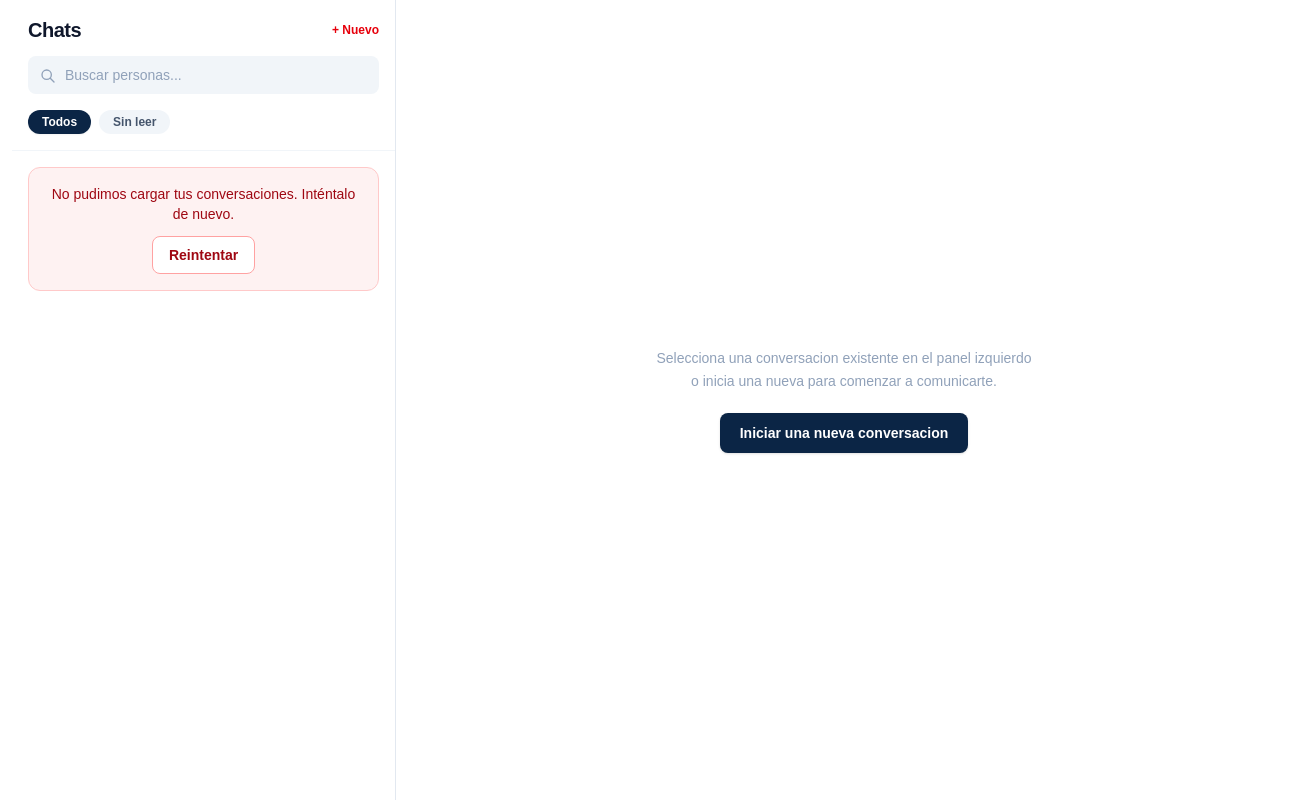
Scenario: Estados del chat › muestra carga, error y permite recuperar la lista sin mostrar un falso vacío
Expected: the message shows "No pudimos cargar tus conversaciones", top-left (52, 186), bottom-right (355, 222)
Click the button "Reintentar" at (204, 255), box top-left (152, 236), bottom-right (255, 274)
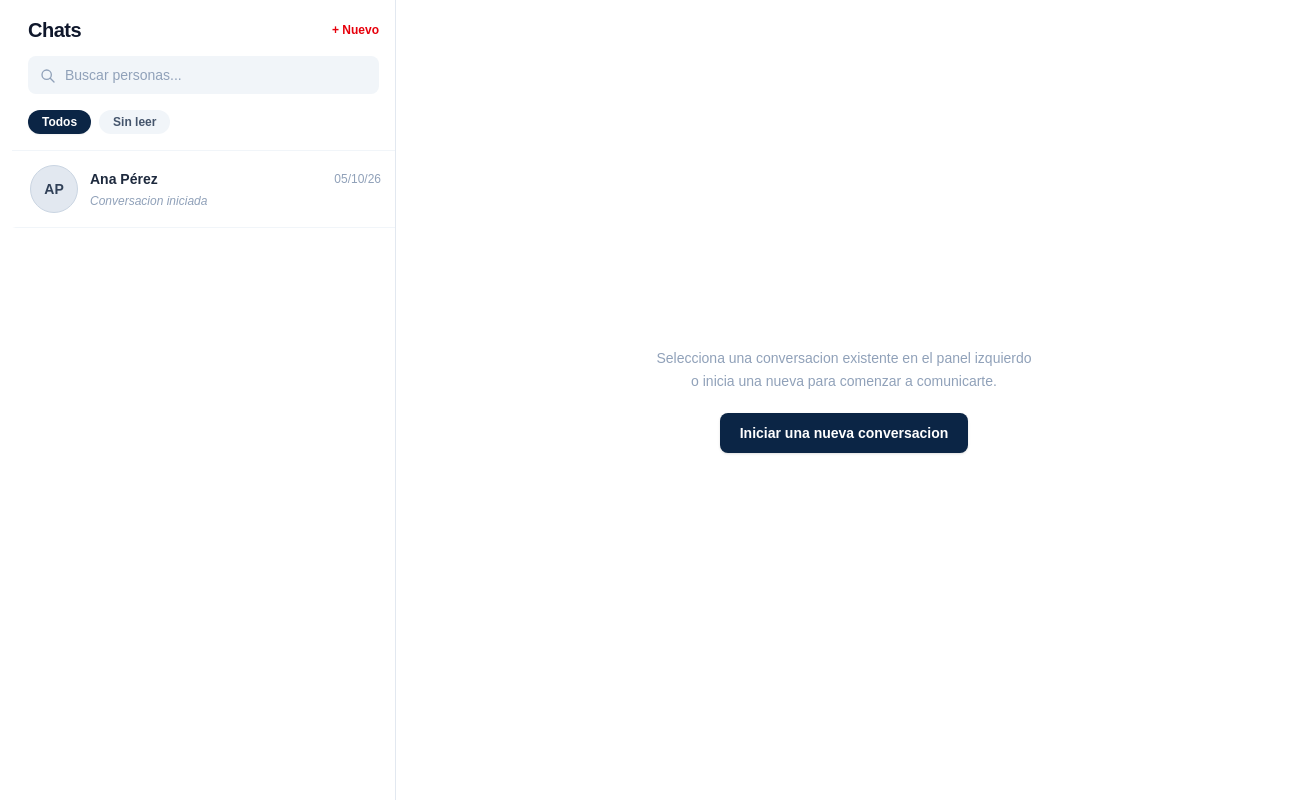
Now the heading "Ana Pérez" is shown, box top-left (90, 169), bottom-right (158, 189)
Now the message "No pudimos cargar tus conversaciones. Inténtalo de nuevo. Reintentar" is gone
